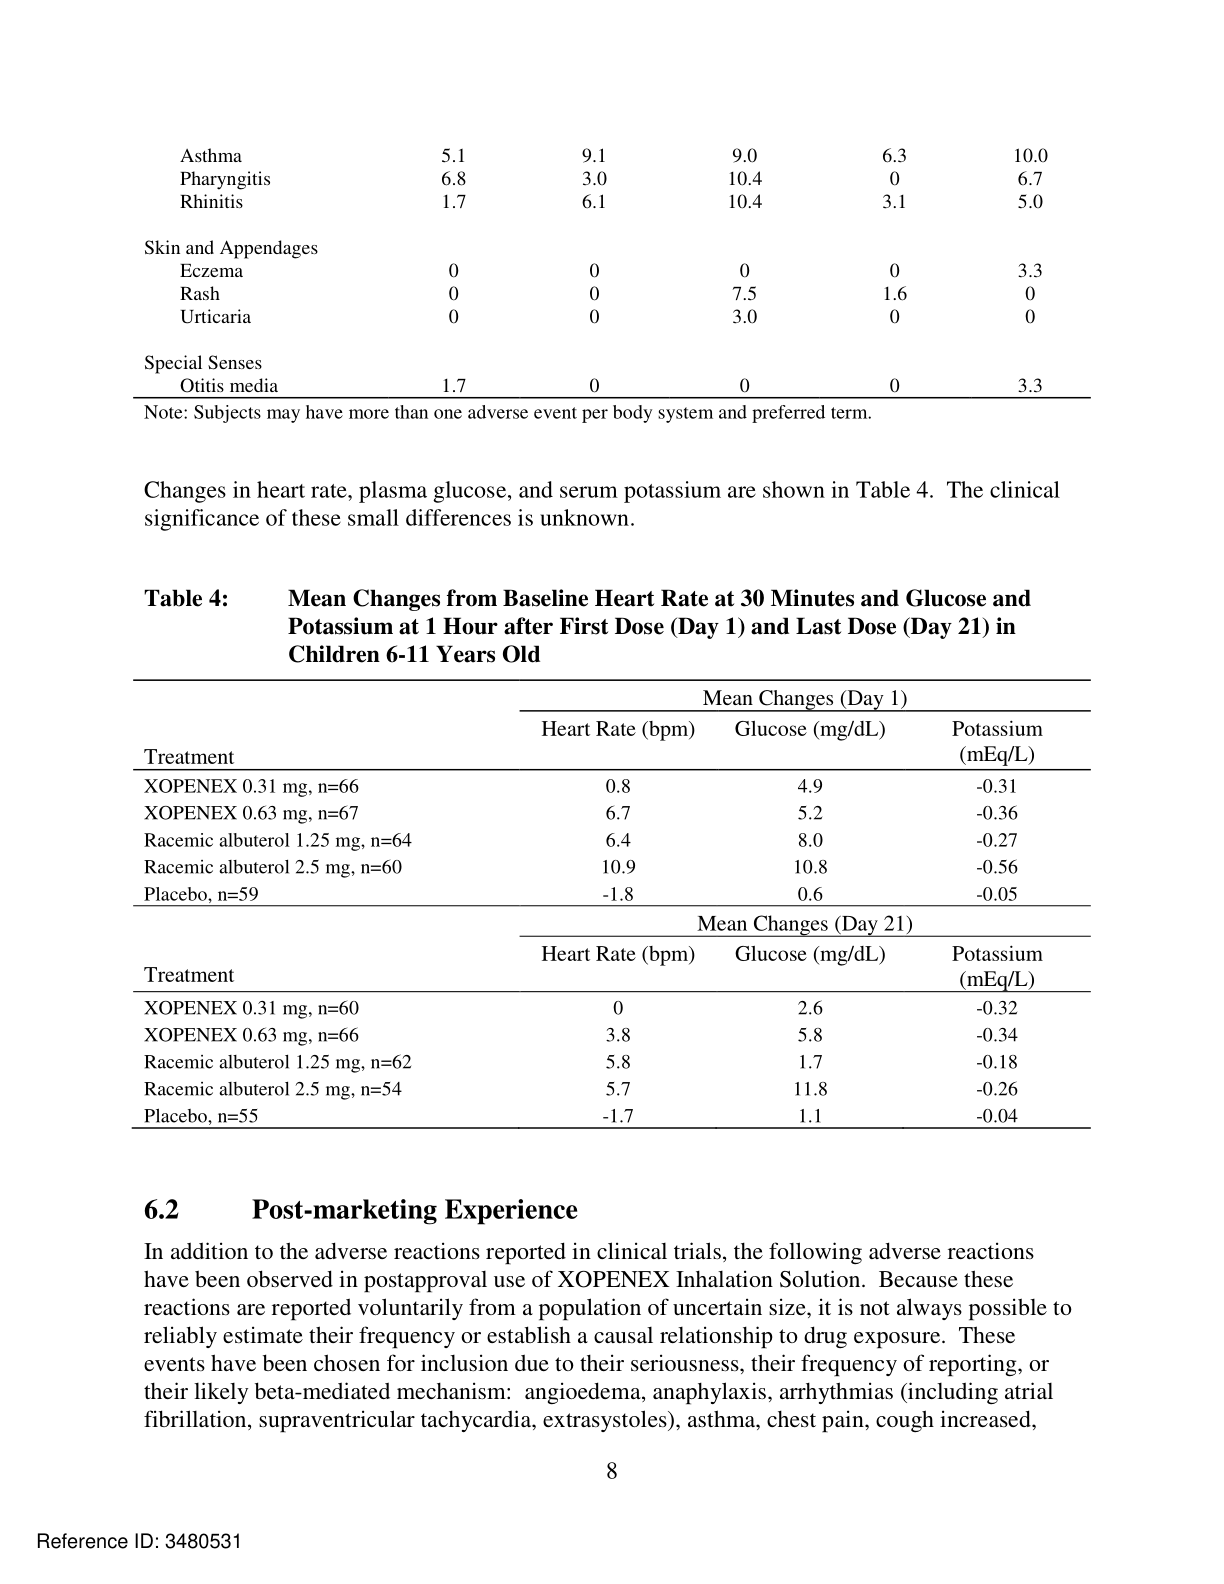nolines: (141, 141, 1050, 395)
partial_lined: (131, 678, 1092, 1130)
